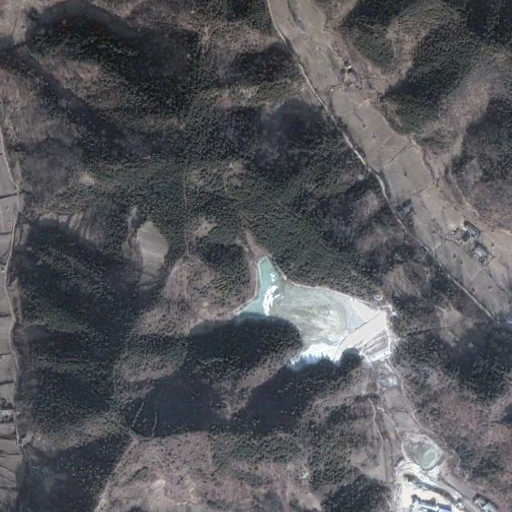tp: (235, 258, 391, 378)
